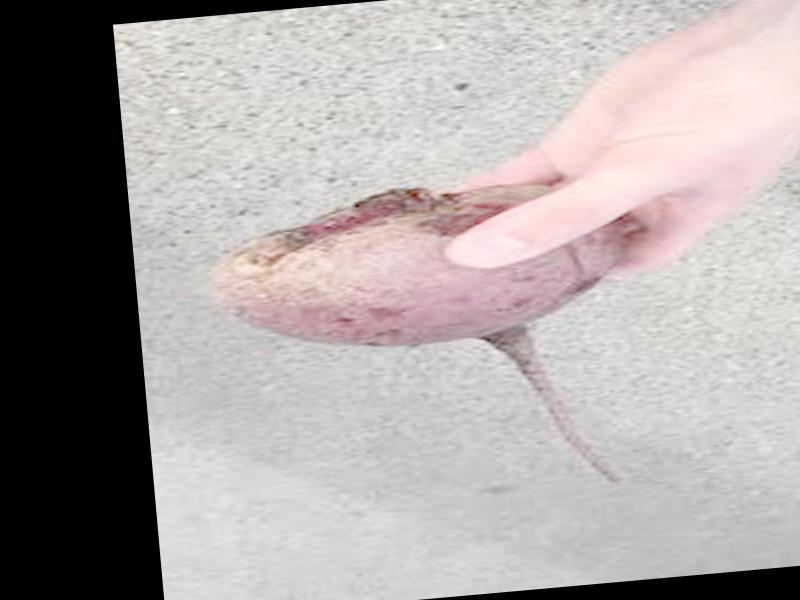Beet: (205, 170, 635, 515)
